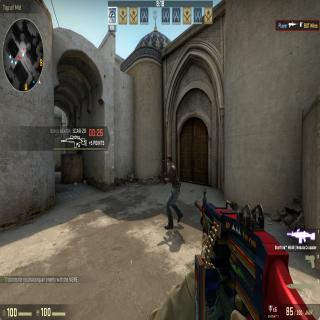T-Body: (162, 154, 181, 230)
T-Head: (166, 155, 173, 169)
